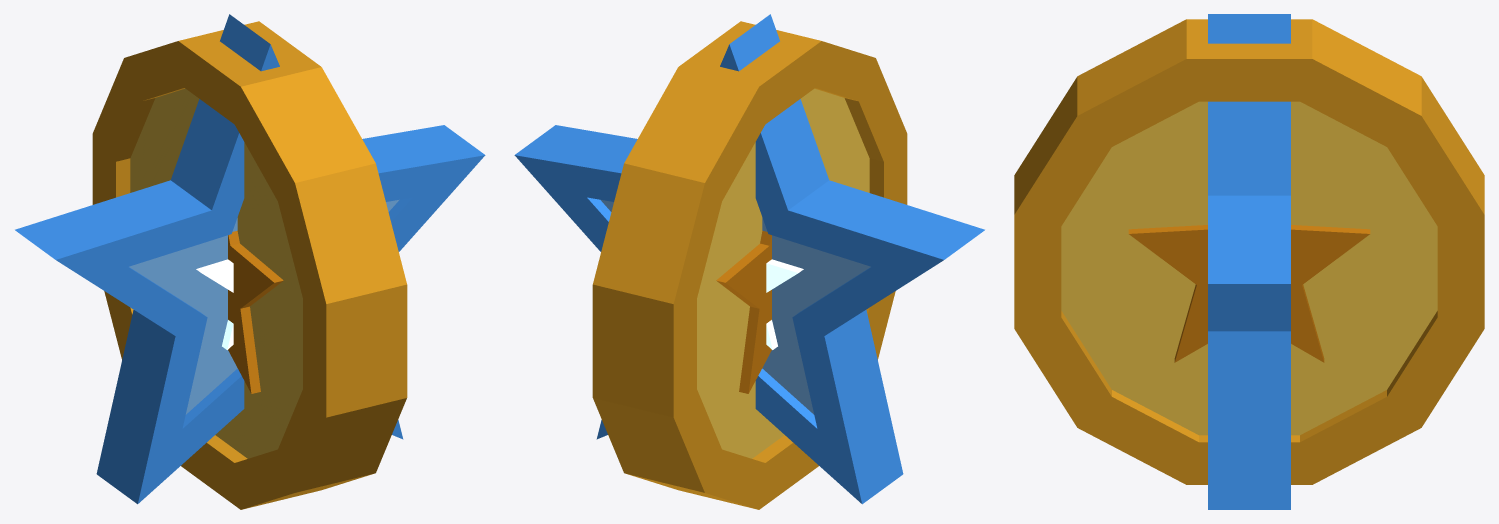
Rendered from shared_loot.fbx.
3 views of the same model, side by side, from view 1: azimuth 30°, elevation 25°; view 2: azimuth 150°, elevation 25°; view 3: azimuth 270°, elevation 25° (orthographic).
Visible parts, largest first — view 1: Coin.Rim, ExpStar.Rim, Coin.Face, ExpStar.Face, Coin.Emblem, ExpStar.Gem; view 2: Coin.Rim, ExpStar.Rim, Coin.Face, ExpStar.Face, Coin.Emblem, ExpStar.Gem; view 3: Coin.Rim, Coin.Face, ExpStar.Rim, Coin.Emblem.
Part boxes in pixels (x1,y1,x2,y2): Coin.Rim: (92, 21, 407, 509); ExpStar.Rim: (15, 14, 485, 504); Coin.Face: (130, 88, 302, 458); ExpStar.Face: (129, 199, 399, 414); Coin.Emblem: (228, 230, 283, 393); ExpStar.Gem: (196, 259, 233, 349); Coin.Rim: (592, 21, 907, 509); ExpStar.Rim: (514, 14, 984, 504); Coin.Face: (697, 88, 869, 458); ExpStar.Face: (600, 199, 870, 414); Coin.Emblem: (716, 230, 771, 393); ExpStar.Gem: (766, 259, 803, 349); Coin.Rim: (1014, 19, 1484, 484); Coin.Face: (1061, 101, 1437, 435); ExpStar.Rim: (1208, 14, 1290, 509); Coin.Emblem: (1128, 225, 1370, 362).
Size of the model in its own units: 1.81 by 1.8 by 1.7.
